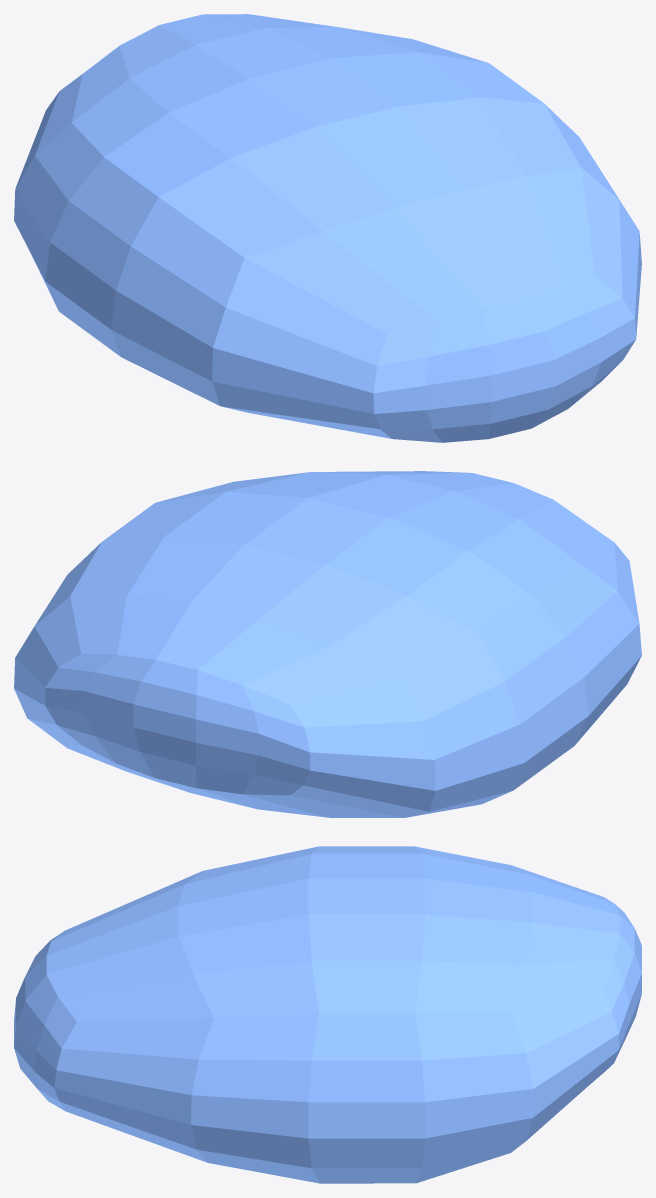
The model's file is PolyTank_Body_static.fbx.
3 renders of one model, top to bottom at view 1: azimuth 30°, elevation 25°; view 2: azimuth 150°, elevation 25°; view 3: azimuth 270°, elevation 25°, orthographic. The views are drawn at different scales.
Visible parts, largest first — view 1: Tank; view 2: Tank; view 3: Tank.
Boxes of the visible parts, box(x1,y1,x2,y2) form: Tank: box(14, 14, 641, 442); Tank: box(14, 471, 641, 817); Tank: box(14, 846, 641, 1183).
Bounding box in the file's own units: 458 × 573 × 211.
